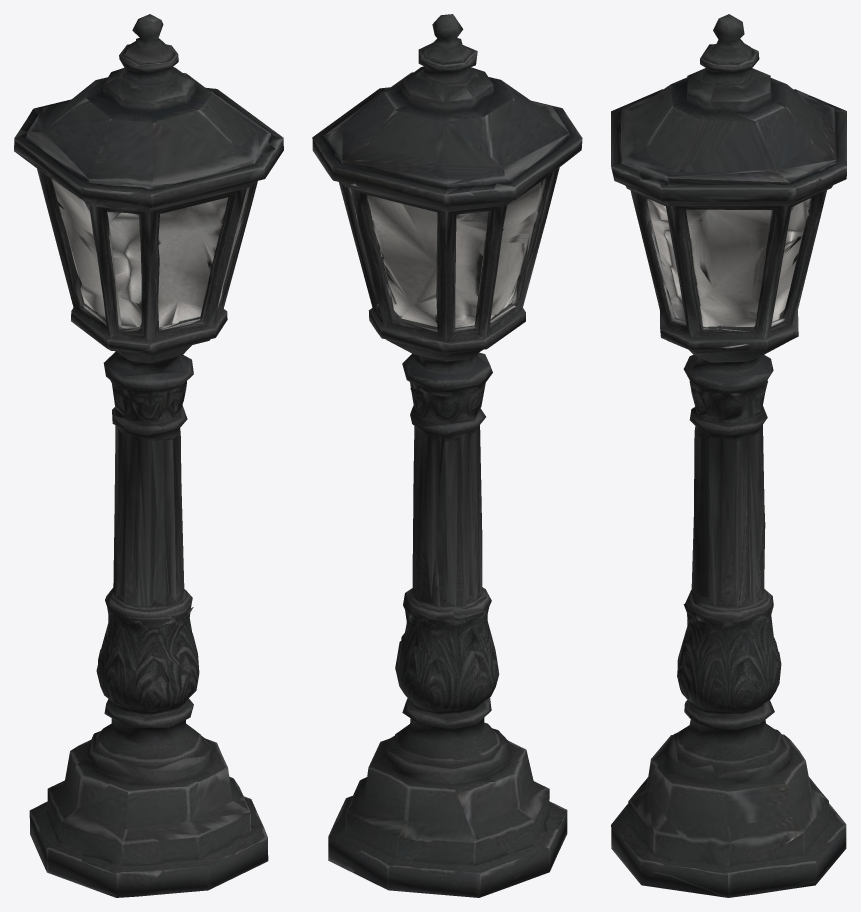
The model's file is env_lamp.glb.
The picture shows the model from 3 angles, left to right: view 1: azimuth 30°, elevation 25°; view 2: azimuth 150°, elevation 25°; view 3: azimuth 270°, elevation 25°; orthographic projection.
Visible parts, largest first — view 1: Mesh_0; view 2: Mesh_0; view 3: Mesh_0.
Part boxes in pixels (x1,y1,x2,y2): Mesh_0: (14,14,283,897); Mesh_0: (312,14,582,897); Mesh_0: (611,14,846,897).
Bounding box in the file's own units: 0.7704 × 3 × 0.7707.
1 material, 1 textured.
